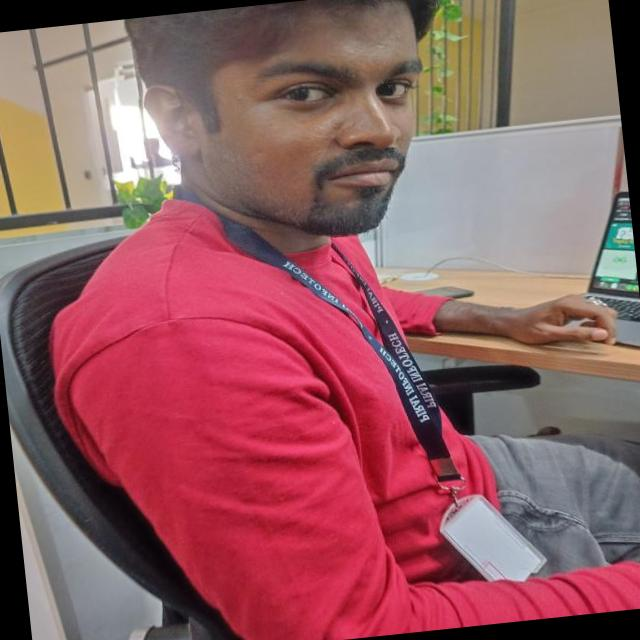id_card: (230, 170, 550, 606)
